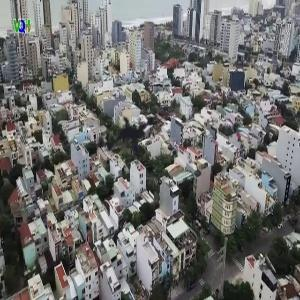drone: (81, 81, 194, 194)
